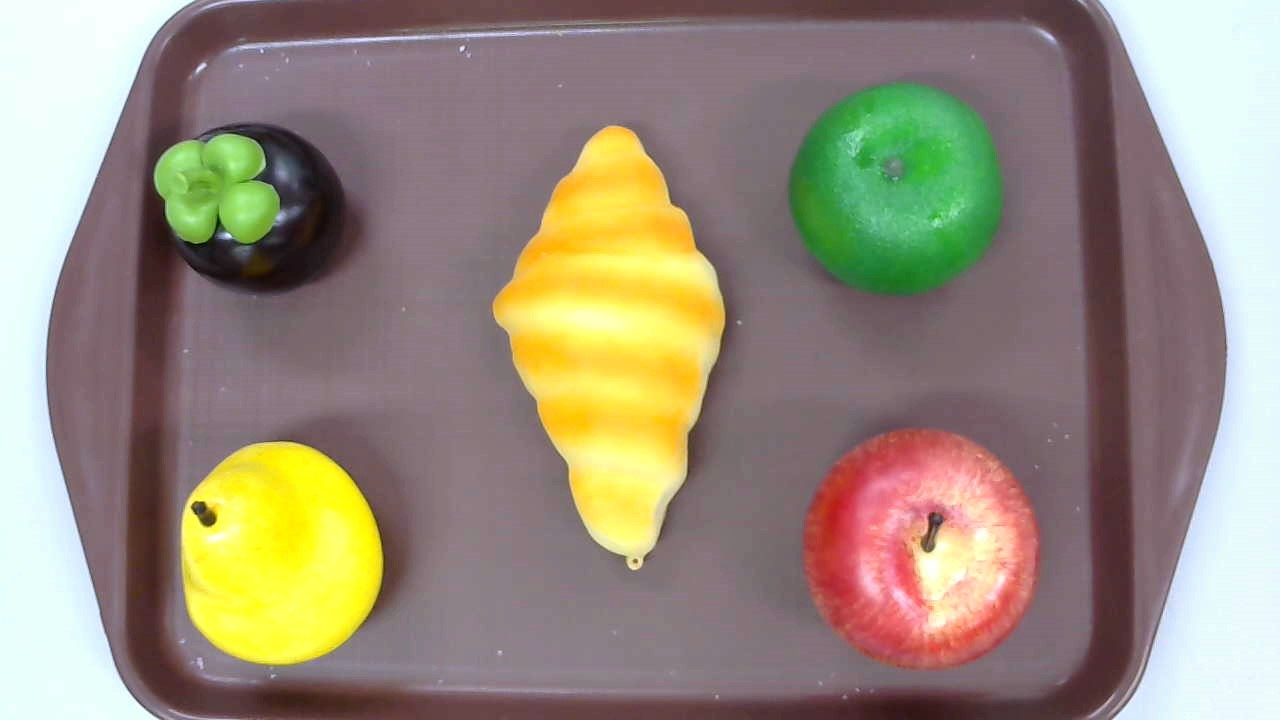croissant: (492, 125, 726, 570)
green orange: (788, 81, 1003, 299)
mangosteen: (153, 122, 345, 297)
red apple: (803, 428, 1039, 672)
yellow pear: (180, 441, 383, 666)
